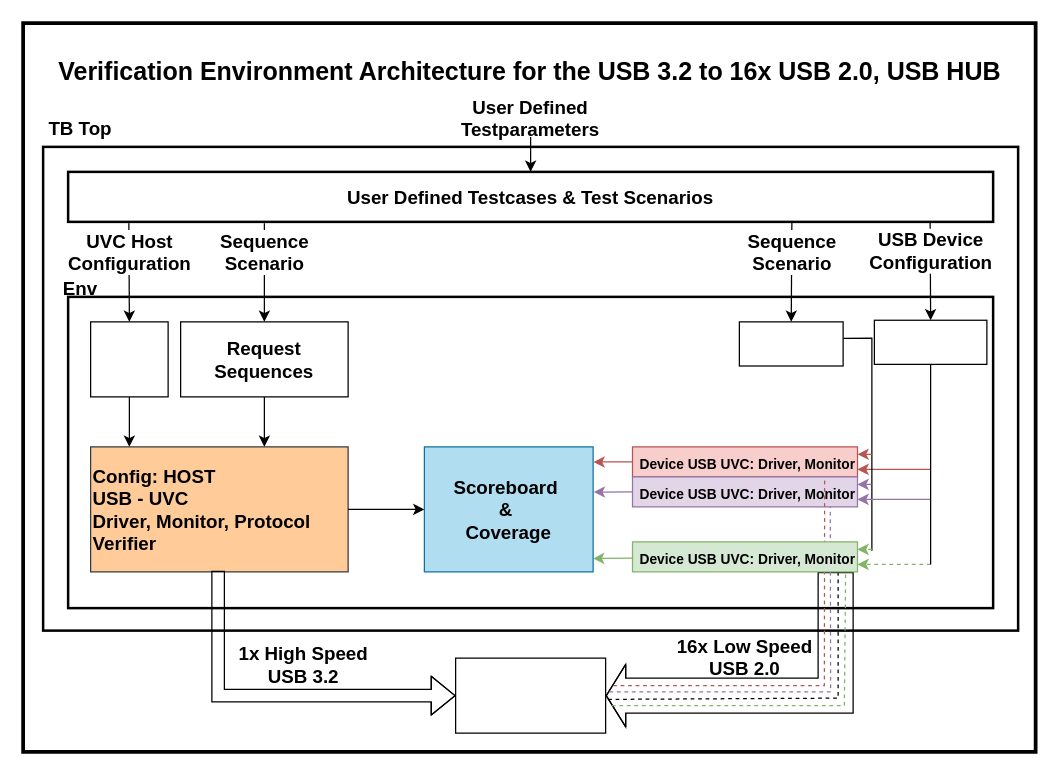
Some shapes in this 1059 by 775 pixel diagram are drawn without their labels. Each missing label, with the centre of its shape:
DUT:USB 3.2 toUSB 2.0 (x16) Bridge: the point at 530,695
Response Sequence: the point at 790,343
USB UVC Config: the point at 128,359
USB UVC Config Config: DEVICE: the point at 930,341
